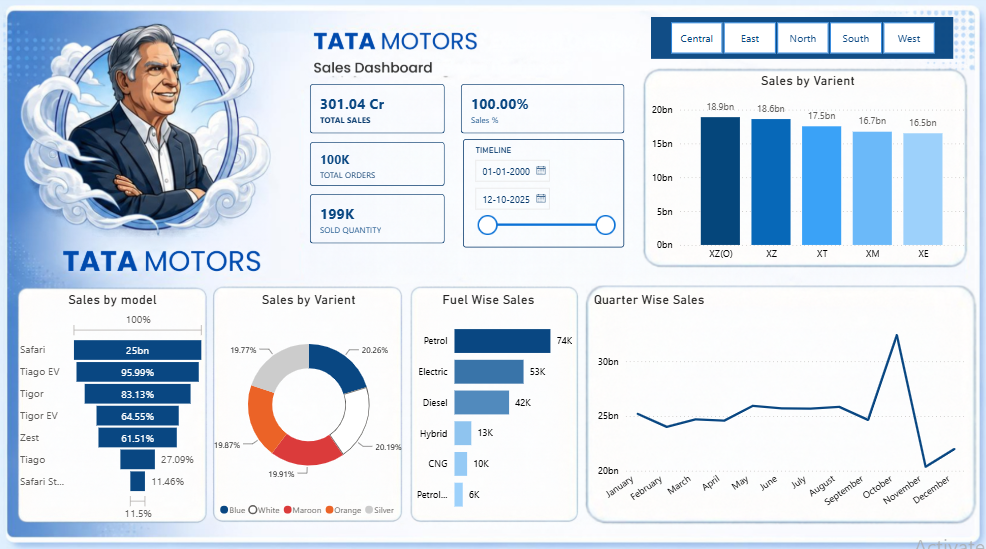

The dashboard page shown, as its layout file describes it:
{"tool":"powerbi","page":{"name":"Dashboard","canvas":[1280,720],"ordinal":0},"visuals":[{"type":"cardVisual","fields":{"Data":["CountNonNull(tata_cars_100k.record_id)"]},"box":[399.1,184.4,184.4,67.4],"z":0},{"type":"cardVisual","fields":{"Data":["Sum(tata_cars_100k.sales_units)"]},"box":[399.1,251.9,184.4,74.3],"z":1000},{"type":"cardVisual","fields":{"Data":["tata_cars_100k.Cr"]},"box":[399.1,110.1,184.4,74.3],"z":2000},{"type":"clusteredBarChart","title":"Fuel Wise Sales","fields":{"Category":["tata_cars_100k.fuel_type"],"Y":["Sum(tata_cars_100k.sales_units)"]},"box":[521.6,382.6,225.7,298.7],"z":3000},{"type":"funnel","title":"Sales by model","fields":{"Category":["tata_cars_100k.model"],"Y":["Sum(tata_cars_100k.Sales)"]},"box":[24.8,382.6,249.1,300],"z":4000},{"type":"lineChart","title":"Quarter Wise Sales","fields":{"Y":["Sum(tata_cars_100k.Total_sales)"],"Category":["tata_cars_100k.sales_date.Variation.Date Hierarchy.Month"]},"box":[765.2,382.6,490,298.7],"z":5000},{"type":"slicer","fields":{"Values":["tata_cars_100k.region"]},"box":[843.7,28.9,390,53.6],"z":6000},{"type":"donutChart","title":"Sales by Varient","fields":{"Category":["tata_cars_100k.color"],"Y":["Sum(tata_cars_100k.sales_units)"]},"box":[273.9,382.6,257.4,298.7],"z":7000},{"type":"cardVisual","fields":{"Data":["tata_cars_100k.Sales %"]},"box":[593.2,110.1,221.6,74.3],"z":8000},{"type":"columnChart","title":"Sales by Varient","fields":{"Category":["tata_cars_100k.variant"],"Y":["tata_cars_100k.Total Sale"]},"box":[839.6,100.5,412.9,251.9],"z":9000},{"type":"slicer","fields":{"Values":["tata_cars_100k.sales_date"]},"box":[601.5,185.8,207.8,140.4],"z":10000}]}

Visuals, with their boxes in screenshot pixels (x1, y1, x2, y2), scaled from the page's 1280x720 canvas onto the 986x549 screenshot:
cardVisual - CountNonNull(tata_cars_100k.record_id): [307, 141, 449, 192]
cardVisual - Sum(tata_cars_100k.sales_units): [307, 192, 449, 249]
cardVisual - tata_cars_100k.Cr: [307, 84, 449, 141]
"Fuel Wise Sales" clusteredBarChart: [402, 292, 576, 519]
"Sales by model" funnel: [19, 292, 211, 520]
"Quarter Wise Sales" lineChart: [589, 292, 967, 519]
slicer - tata_cars_100k.region: [650, 22, 950, 63]
"Sales by Varient" donutChart: [211, 292, 409, 519]
cardVisual - tata_cars_100k.Sales %: [457, 84, 628, 141]
"Sales by Varient" columnChart: [647, 77, 965, 269]
slicer - tata_cars_100k.sales_date: [463, 142, 623, 249]
